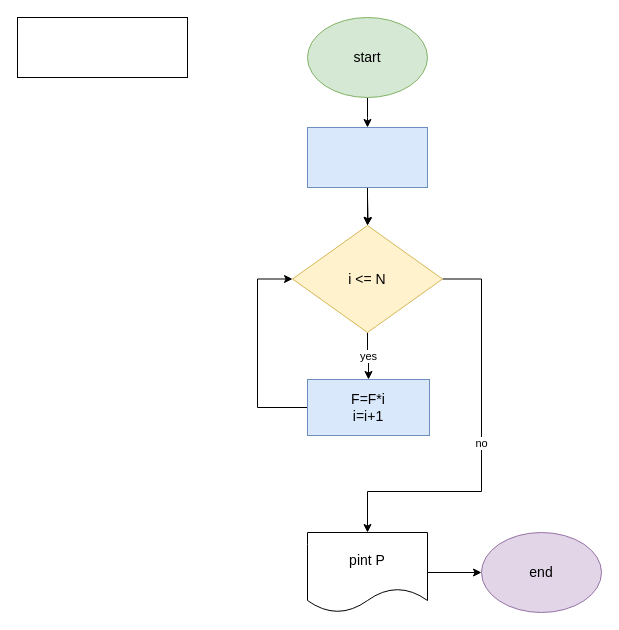
This 619x630 diagram has some shape labels left out. Each missing label, with the centre of its shape:
N i=1 F=1: the point at 367,157
Блок схема нахождения факториала n*: the point at 102,47
